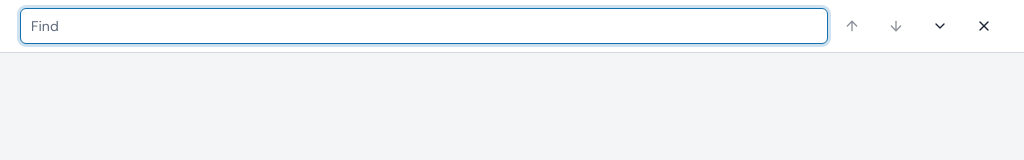
it: FindReplaceBar layouts › keeps phones to one row until replace is requested
Later steps or results of the test are not shown.
Check: the field labelled "Replace with" is not shown
Type "cat" into the field labelled "Find" at (424, 26), box x1=21 y1=9 x2=827 y2=43
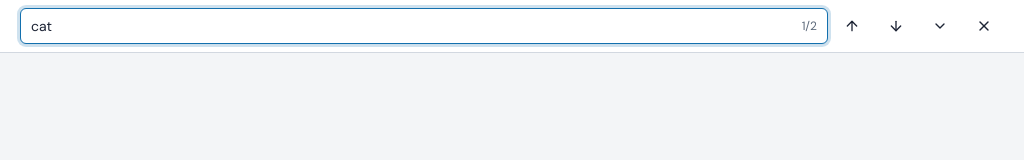
Click the button named "Replace and match case" at (940, 26), box x1=920 y1=6 x2=960 y2=46
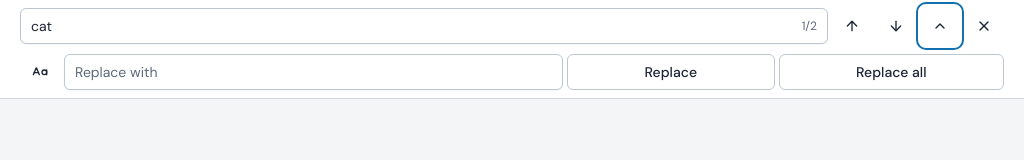
Check: the button named "Replace and match case" is expanded, box x1=920 y1=6 x2=960 y2=46
